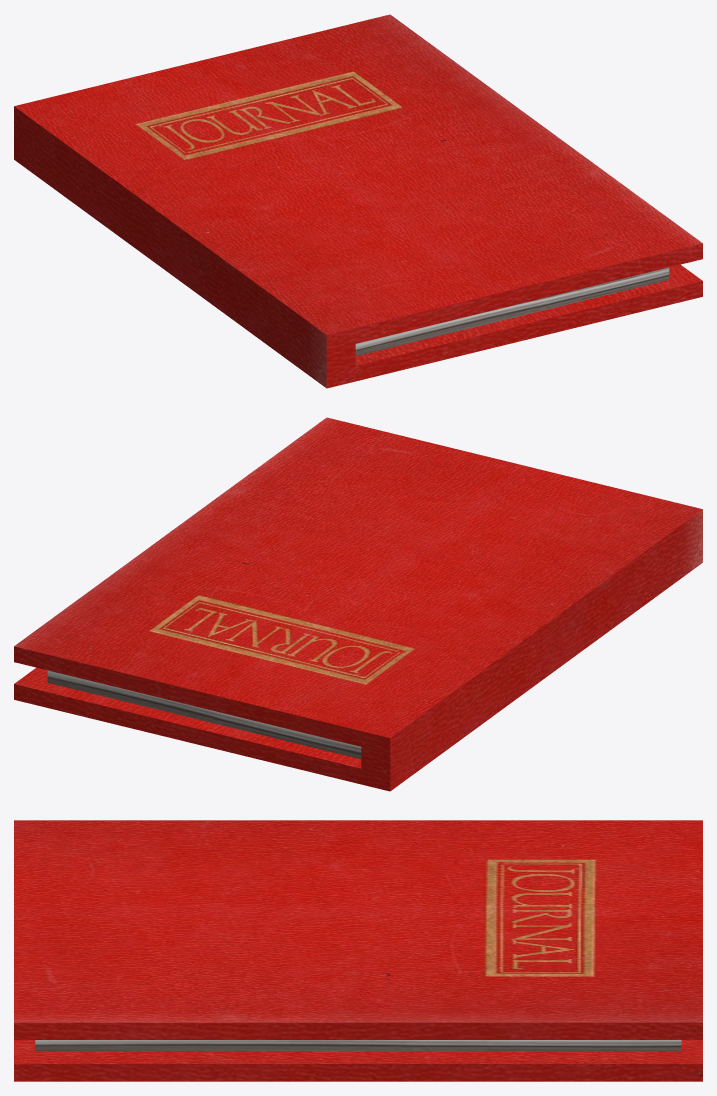
File: journal.fbx
3 renders of one model, top to bottom at view 1: azimuth 30°, elevation 25°; view 2: azimuth 150°, elevation 25°; view 3: azimuth 270°, elevation 25°, orthographic. The views are drawn at different scales.
Visible parts, largest first — view 1: pCube2, pCube3; view 2: pCube2, pCube3; view 3: pCube2, pCube3.
Boxes of the visible parts, box(x1,y1,x2,y2) form: pCube2: box(14, 14, 702, 388); pCube3: box(355, 267, 669, 355); pCube2: box(14, 417, 702, 791); pCube3: box(47, 670, 361, 758); pCube2: box(14, 820, 702, 1081); pCube3: box(35, 1040, 681, 1051).
Bounding box in the file's own units: 2.51 × 0.3411 × 3.62.
